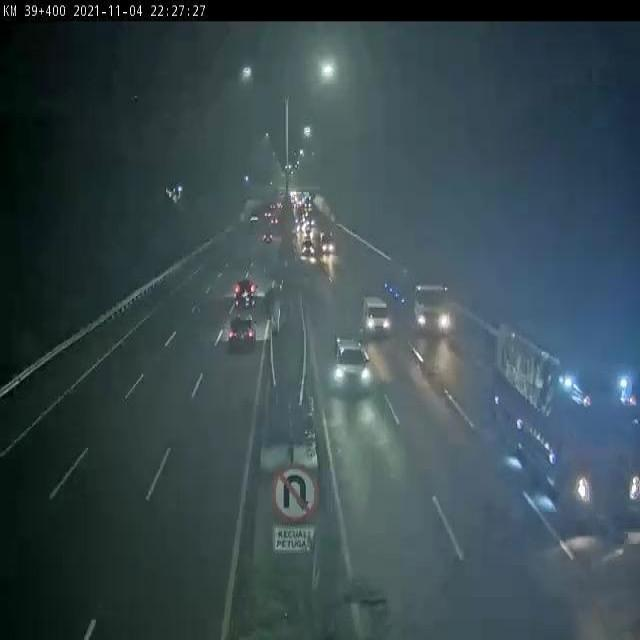car: (333, 337, 374, 392), (227, 317, 258, 352), (364, 296, 390, 336), (232, 278, 260, 310)
truck-l-: (491, 321, 640, 512)
truck-xl-: (385, 256, 452, 333)
